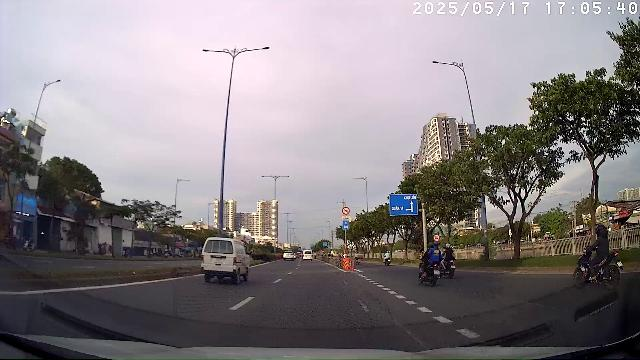103a-cam-oto: (434, 234, 441, 241)
